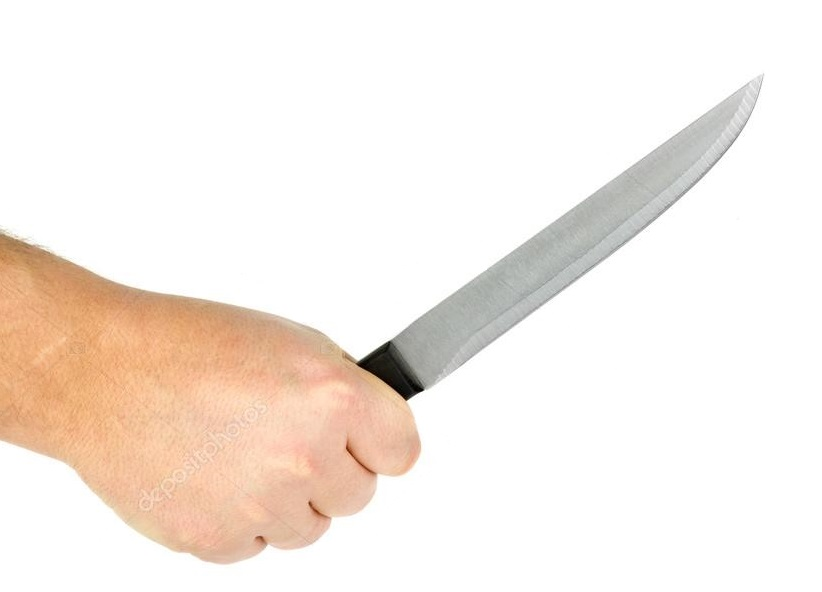knife: (302, 70, 775, 536)
